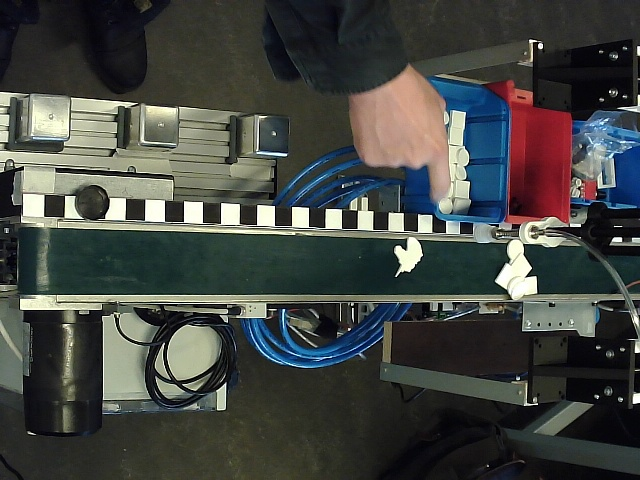unicorn: (392, 236, 425, 278)
